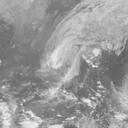cyclone: (37, 38, 97, 93)
